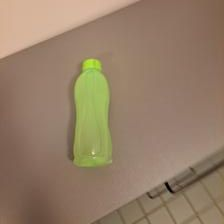bottle: (63, 57, 121, 171)
